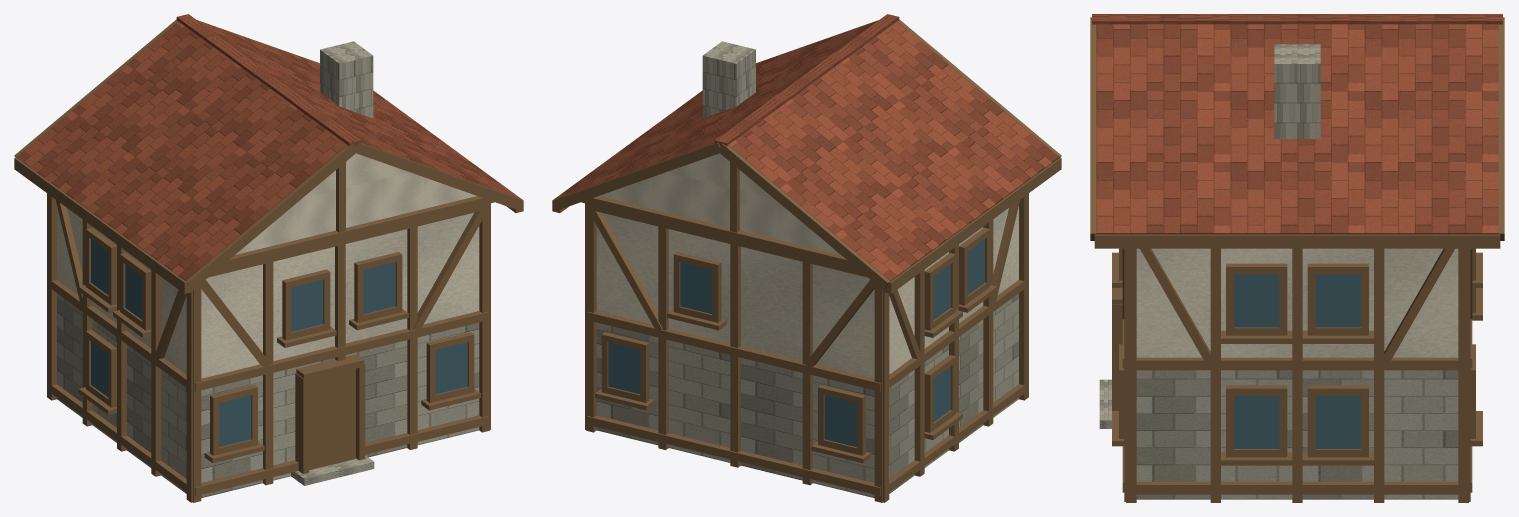
The picture shows the model from 3 angles, left to right: view 1: azimuth 30°, elevation 25°; view 2: azimuth 150°, elevation 25°; view 3: azimuth 270°, elevation 25°; orthographic projection. The views are drawn at different scales.
Parts seen in each view (by area): view 1: house-wood, house-roof, house-plaster, house-stone; view 2: house-wood, house-roof, house-plaster, house-stone; view 3: house-roof, house-wood, house-stone, house-plaster.
Part boxes in pixels (bbox=[...]): house-wood: bbox=[14, 19, 523, 502]; house-roof: bbox=[16, 14, 520, 280]; house-plaster: bbox=[57, 153, 479, 378]; house-stone: bbox=[57, 41, 479, 497]; house-wood: bbox=[552, 19, 1061, 502]; house-roof: bbox=[555, 14, 1059, 280]; house-plaster: bbox=[596, 153, 1018, 378]; house-stone: bbox=[596, 41, 1018, 497]; house-roof: bbox=[1092, 14, 1502, 234]; house-wood: bbox=[1090, 17, 1504, 502]; house-stone: bbox=[1099, 44, 1458, 499]; house-plaster: bbox=[1136, 248, 1458, 357].
Size of the model in its own units: 7.98 by 7.7 by 7.1.
4 materials, 3 textured.
